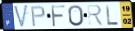F: (50, 5, 67, 29)
L: (105, 4, 120, 27)
O: (67, 4, 85, 27)
P: (30, 5, 47, 28)
R: (86, 4, 105, 27)
V: (13, 4, 30, 29)
